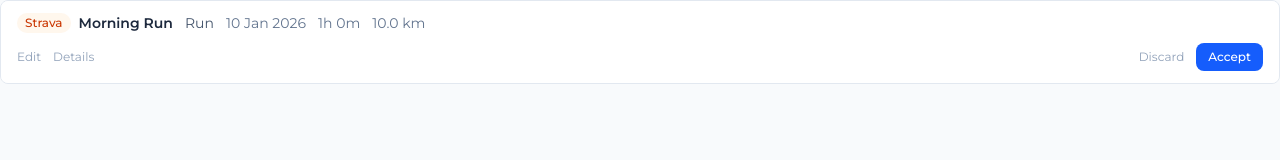
Test case: ImportRow › shows confirmation prompt on first discard click
Click the button "Discard": (1161, 57) [1139,49,1184,65]
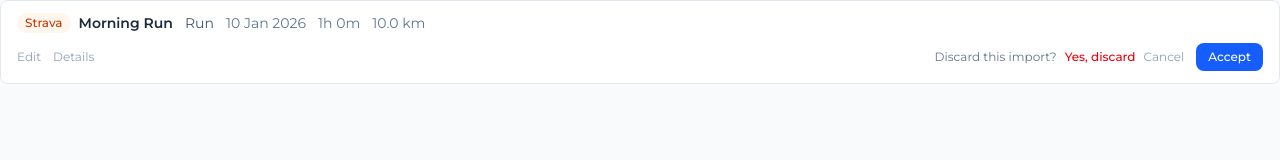
expect the text "Discard this import?" is shown: met, box [935,49,1057,65]
expect the button "Yes, discard" is shown: met, box [1065,49,1136,65]
